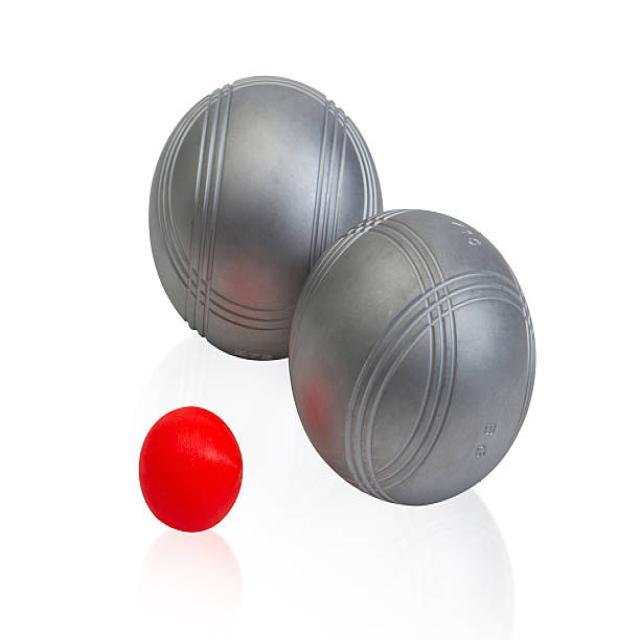hatball: (130, 403, 245, 540)
petanque: (142, 64, 395, 374), (283, 204, 533, 510)
